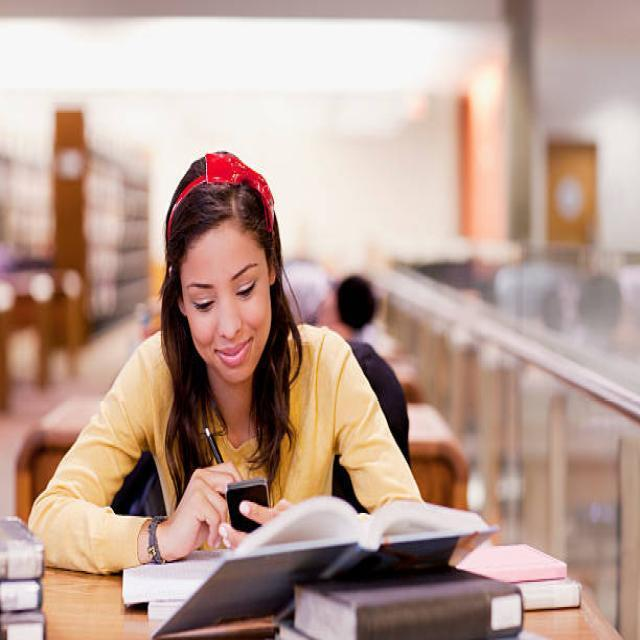Phone use: (30, 151, 421, 571)
